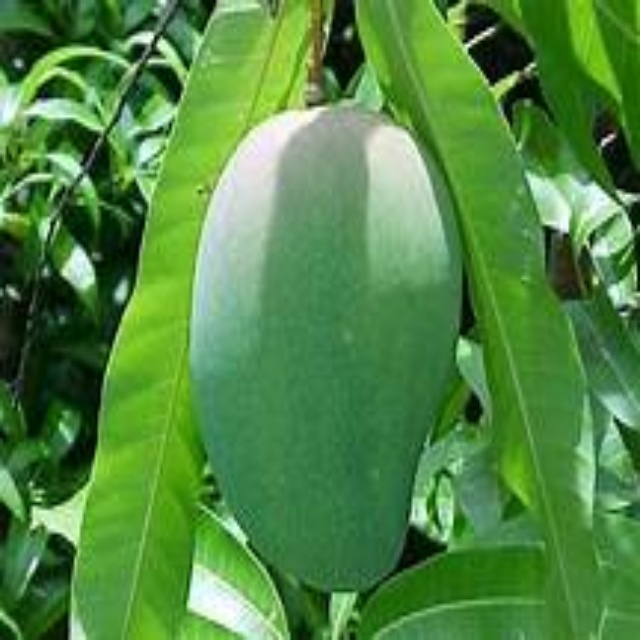mango: (205, 111, 456, 597)
